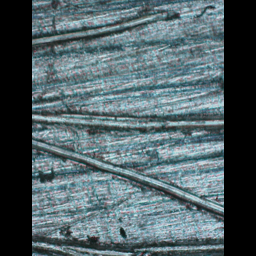d: (32, 136, 223, 217), (32, 9, 179, 53), (32, 107, 223, 132), (32, 233, 223, 256)
